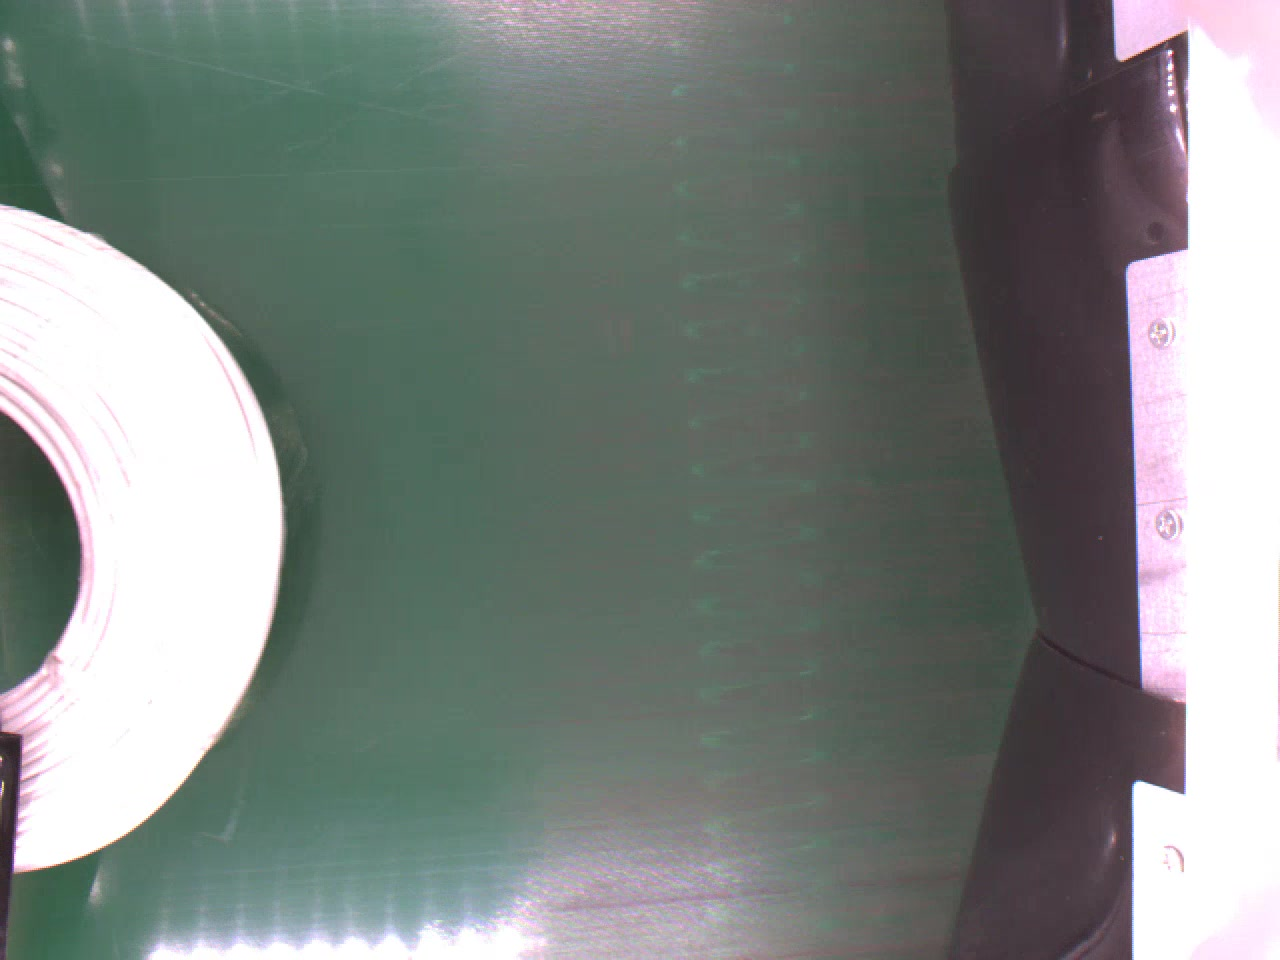white: (0, 201, 288, 880)
